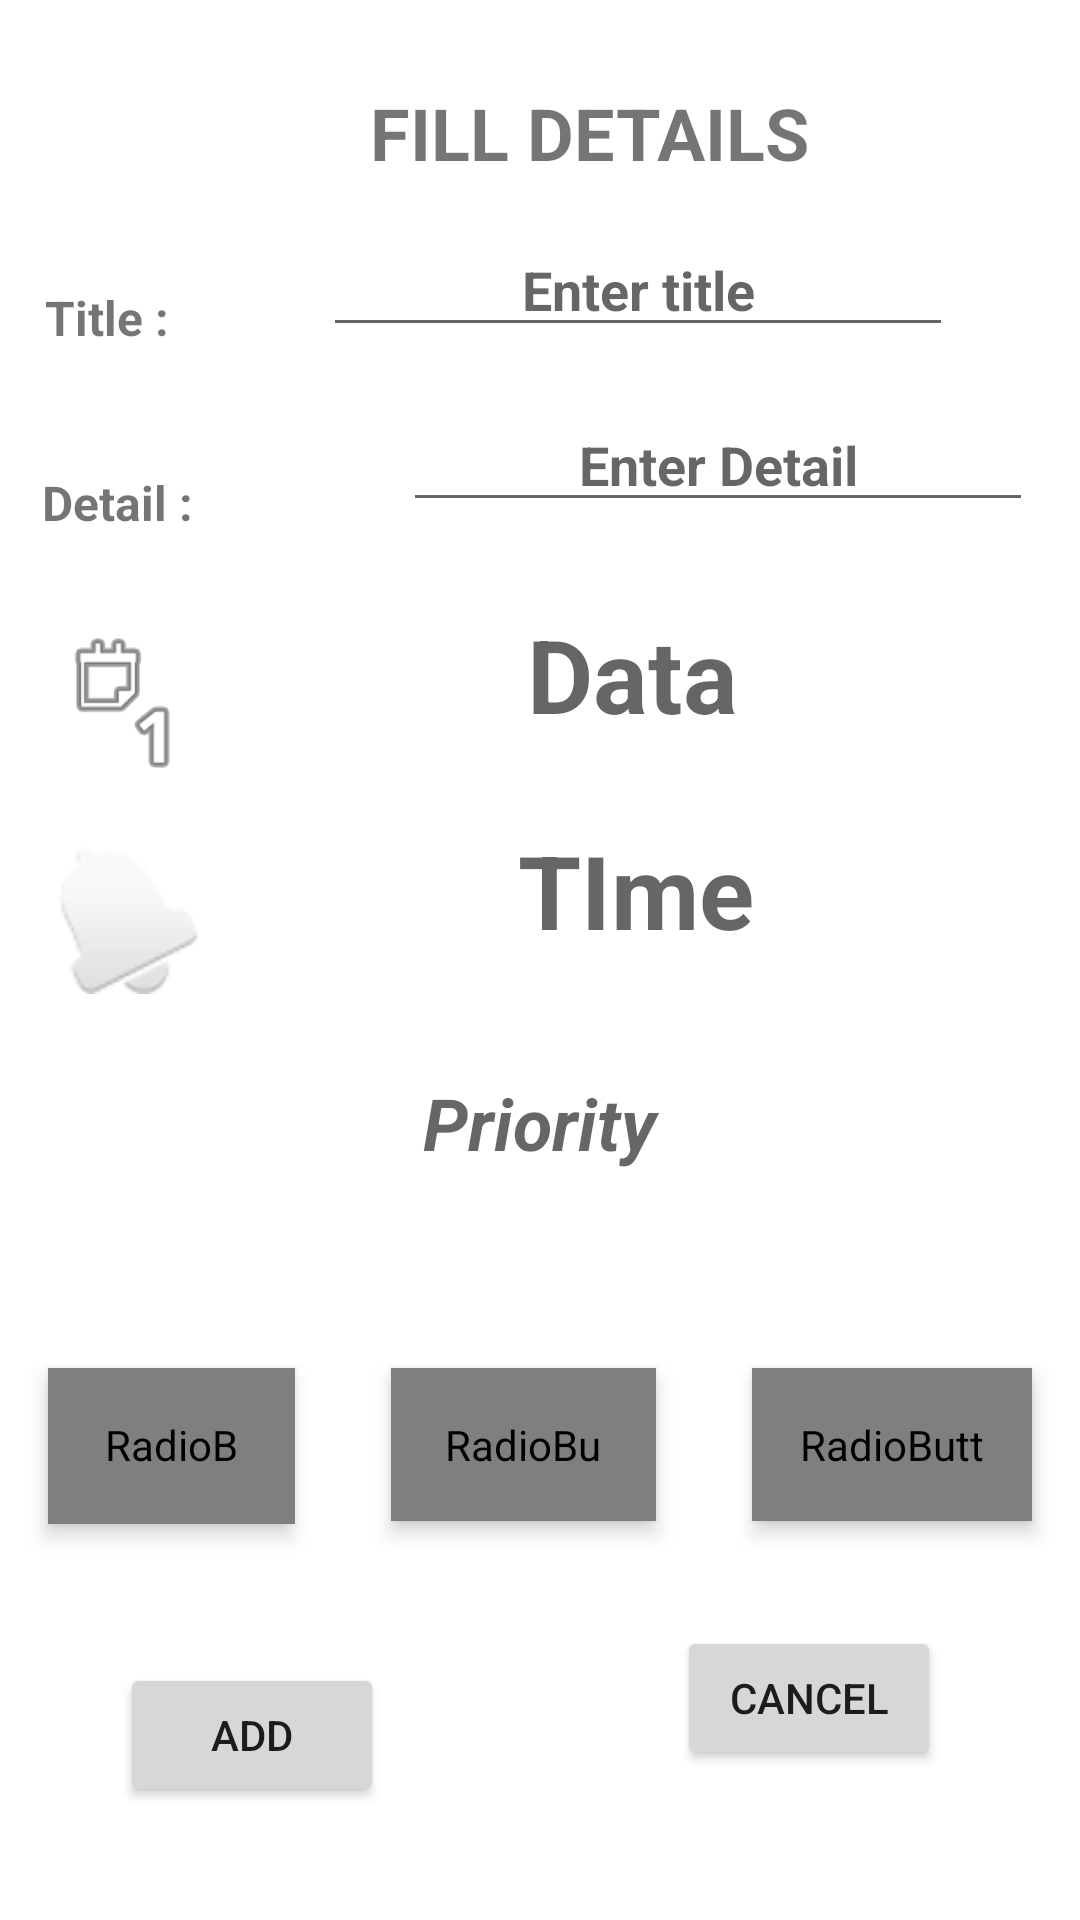

Icon bounding boxes for this 1080px×1920px phone screenshot, format (x1, y1, x2, y2):
day: (75, 638, 170, 768)
